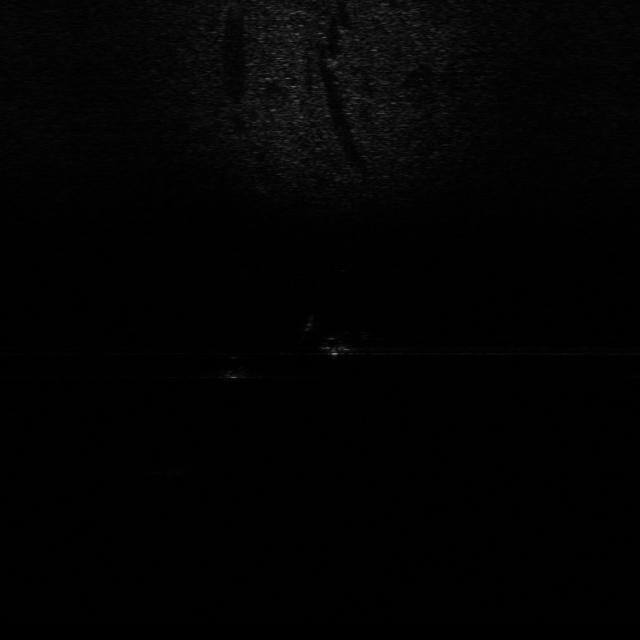ball: (220, 354, 254, 380)
circle cage: (154, 451, 200, 478)
human body: (298, 311, 374, 358)
